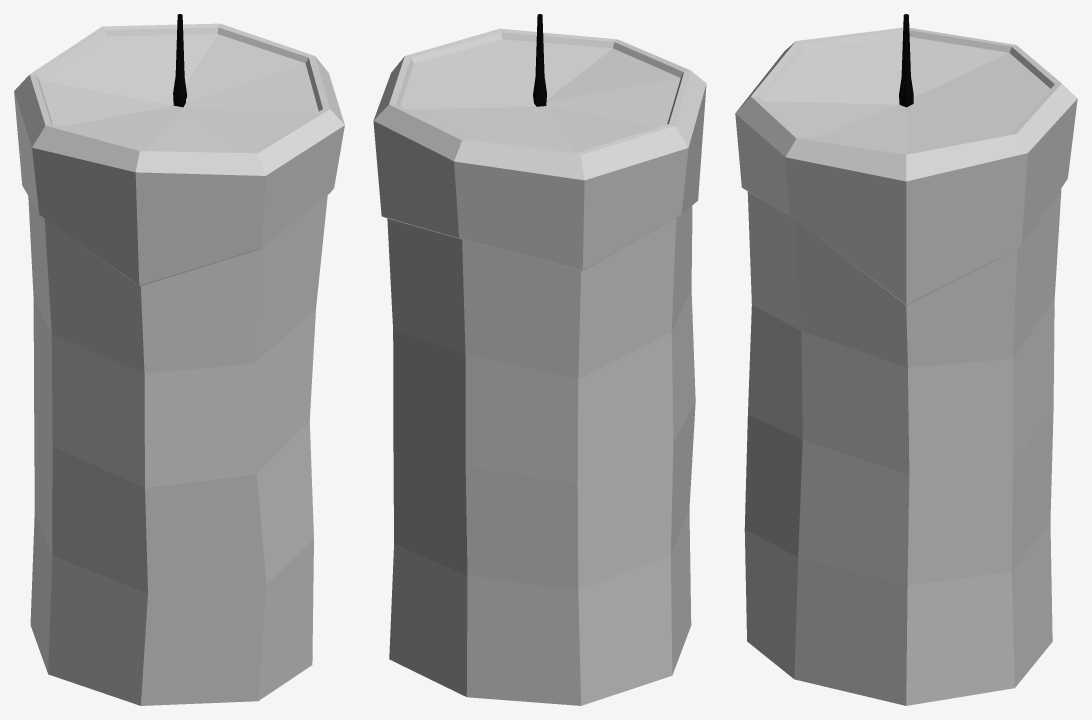
Rendered from candle__.obj.
3 renders of one model, left to right at view 1: azimuth 30°, elevation 25°; view 2: azimuth 150°, elevation 25°; view 3: azimuth 270°, elevation 25°, orthographic.
Parts seen in each view (by area): view 1: candle_!; view 2: candle_!; view 3: candle_!.
Boxes of the visible parts, bbox=[...] form: candle_!: bbox=[14, 14, 344, 705]; candle_!: bbox=[373, 14, 706, 705]; candle_!: bbox=[735, 14, 1077, 705].
Size of the model in its own units: 0.0474 by 0.0958 by 0.0474.
